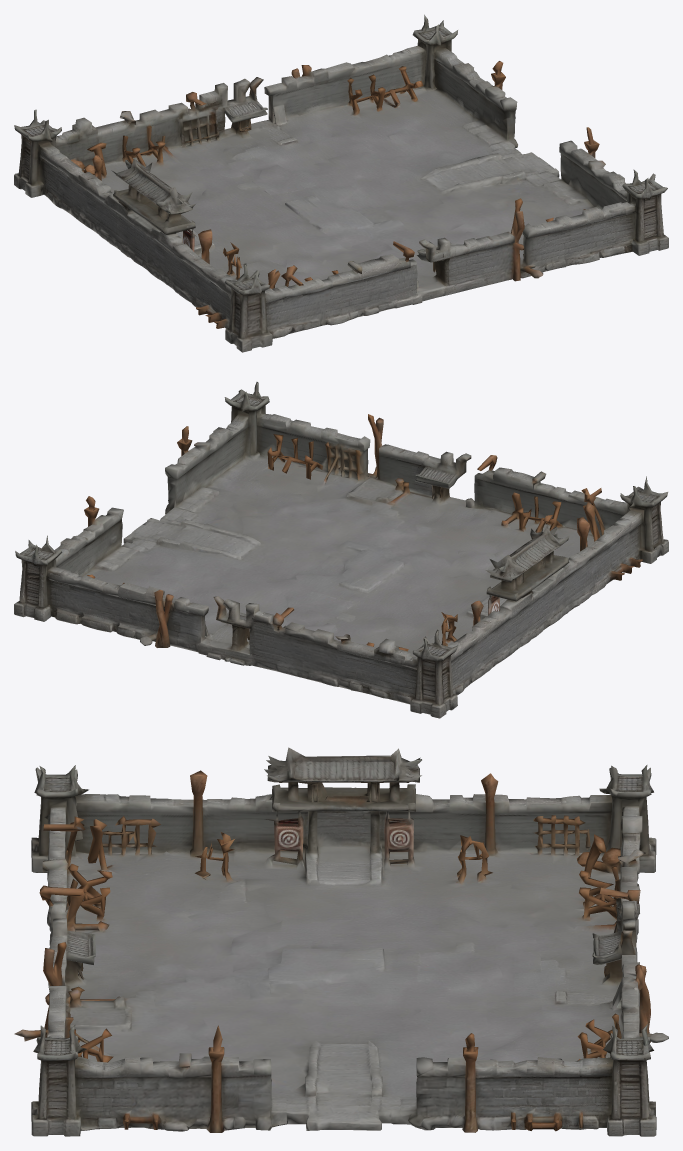
3 renders of one model, top to bottom at view 1: azimuth 30°, elevation 25°; view 2: azimuth 150°, elevation 25°; view 3: azimuth 270°, elevation 25°, orthographic. The views are drawn at different scales.
Visible parts, largest first — view 1: tripo_node_655b470a-1502-43f3-8e65-7ca439a02357; view 2: tripo_node_655b470a-1502-43f3-8e65-7ca439a02357; view 3: tripo_node_655b470a-1502-43f3-8e65-7ca439a02357.
Boxes of the visible parts, box(x1,y1,x2,y2) form: tripo_node_655b470a-1502-43f3-8e65-7ca439a02357: box(14, 14, 668, 352); tripo_node_655b470a-1502-43f3-8e65-7ca439a02357: box(14, 382, 668, 718); tripo_node_655b470a-1502-43f3-8e65-7ca439a02357: box(14, 747, 668, 1136).
Bounding box in the file's own units: 1 × 0.2017 × 0.9654.
1 material, 1 textured.
